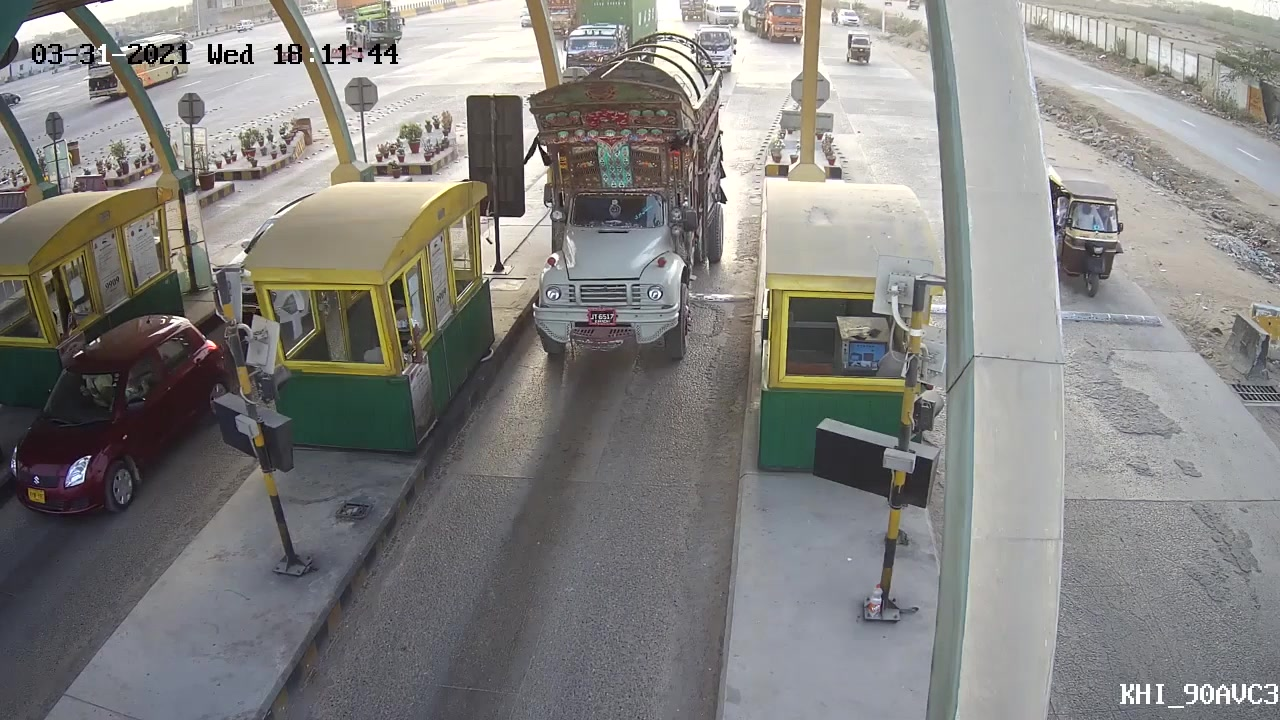F5: (528, 46, 726, 374)
